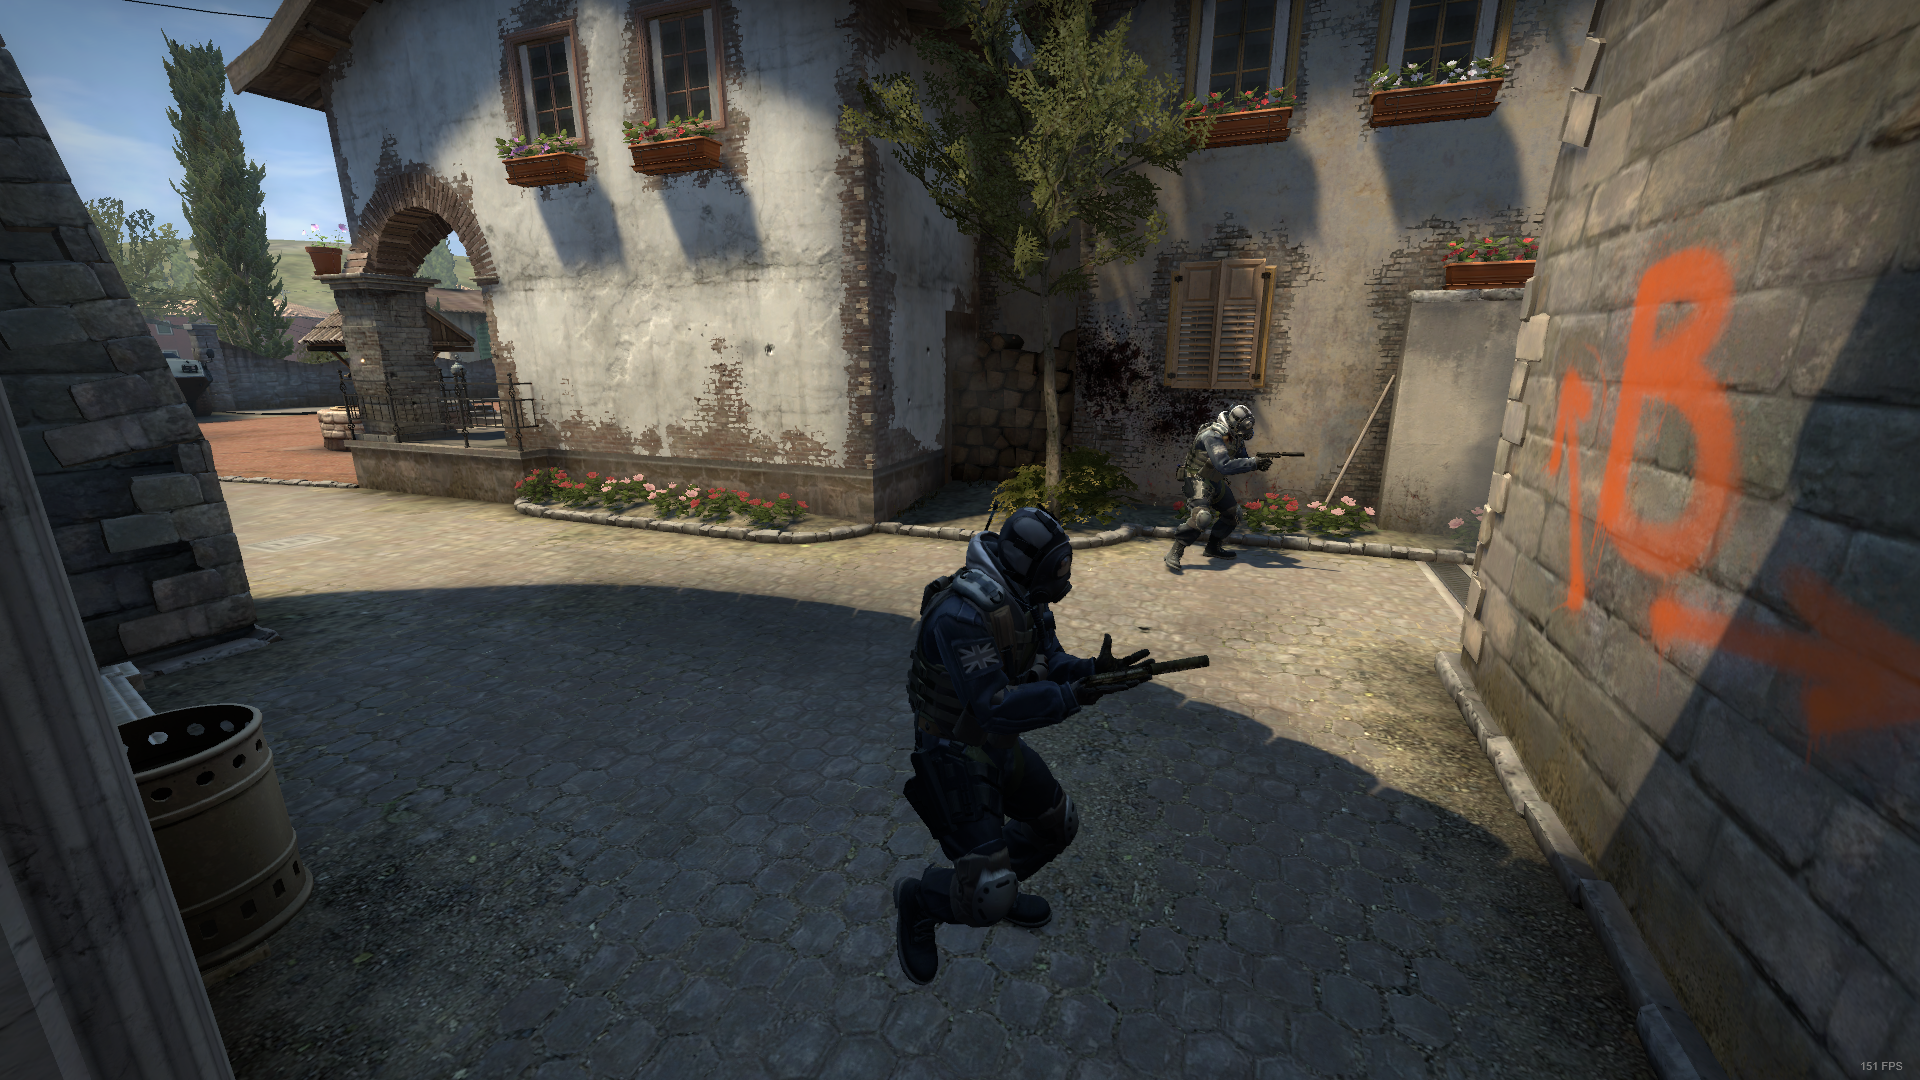ct: (886, 505, 1164, 1000), (1164, 405, 1274, 572)
